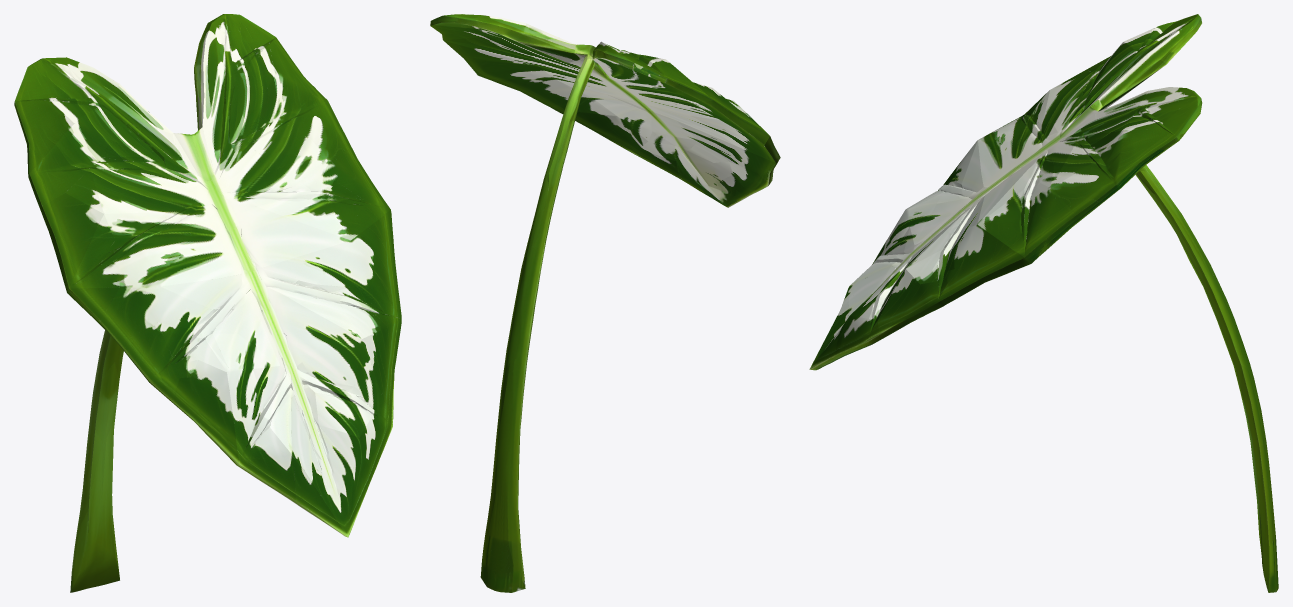
The model's file is al_leaf_mid_half.glb.
3 views of the same model, side by side, from view 1: azimuth 30°, elevation 25°; view 2: azimuth 150°, elevation 25°; view 3: azimuth 270°, elevation 25° (orthographic). The views are drawn at different scales.
Size of the model in its own units: 1.09 by 1.9 by 1.52.
1 material, 1 textured.
